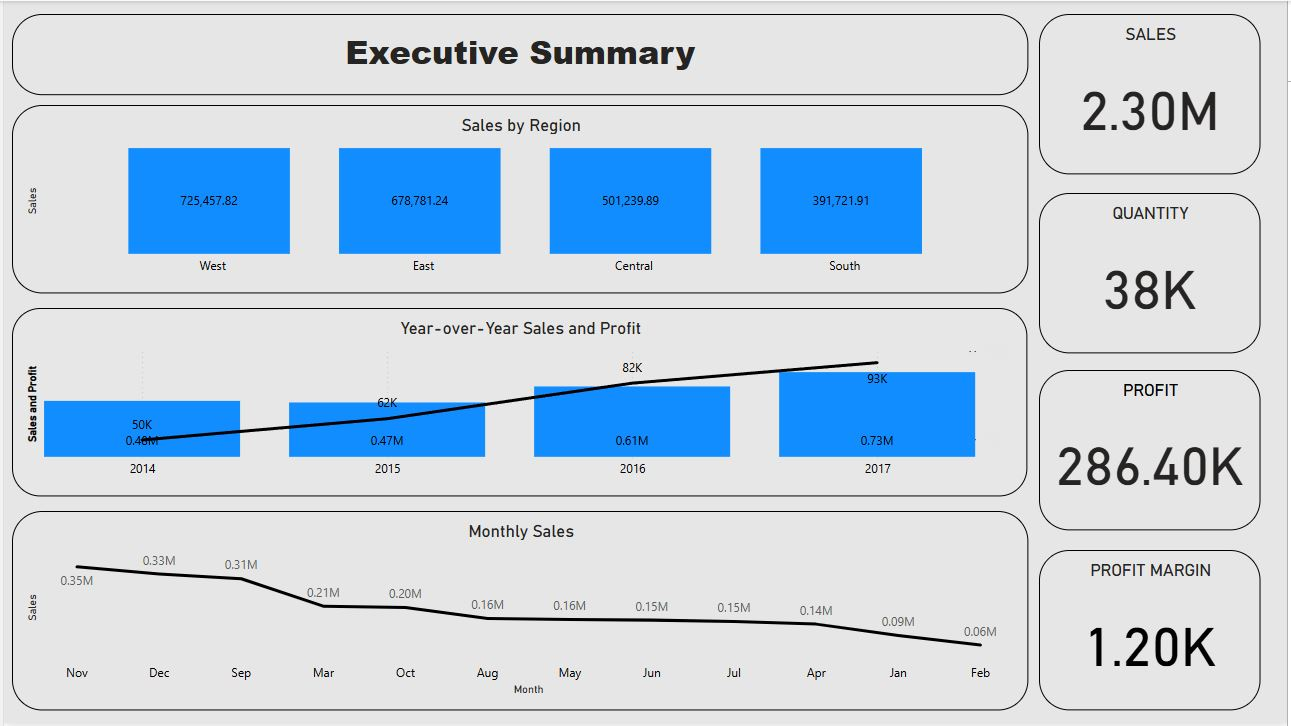

The dashboard page shown, as its layout file describes it:
{"tool":"powerbi","page":{"name":"Executive Summary","canvas":[1280,720],"ordinal":0},"visuals":[{"type":"card","title":"SALES","fields":{"Values":["Sum(Sample - Superstore.Sales)"]},"box":[1033.1,13.1,220.7,160.3],"z":0},{"type":"card","title":"PROFIT","fields":{"Values":["Sum(Sample - Superstore.Profit)"]},"box":[1033.1,367.9,220.7,160.3],"z":1000},{"type":"card","title":"QUANTITY","fields":{"Values":["Sum(Sample - Superstore.Quantity)"]},"box":[1033.1,191.5,220.7,160.3],"z":2000},{"type":"card","title":"PROFIT MARGIN","fields":{"Values":["Sum(Sample - Superstore.Profit Margin)"]},"box":[1033.1,547.3,220.7,160.3],"z":3000},{"type":"lineChart","title":"Monthly Sales","fields":{"Y":["Sum(Sample - Superstore.Sales)"],"Category":["Sample - Superstore.Month Names"]},"box":[8.1,509,1013.9,198.6],"z":4000},{"type":"hundredPercentStackedColumnChart","title":"Sales by Region","fields":{"Category":["Sample - Superstore.Region"],"Y":["Sum(Sample - Superstore.Sales)"]},"box":[8.1,103.8,1013.9,188.5],"z":5000},{"type":"lineClusteredColumnComboChart","title":"Year-over-Year Sales and Profit","fields":{"Category":["Sample - Superstore.OrderDate.Variation.Date Hierarchy.Year","Sample - Superstore.OrderDate.Variation.Date Hierarchy.Quarter","Sample - Superstore.OrderDate.Variation.Date Hierarchy.Month","Sample - Superstore.OrderDate.Variation.Date Hierarchy.Day"],"Y":["Sum(Sample - Superstore.Sales)"],"Y2":["Sum(Sample - Superstore.Profit)"]},"box":[8.1,306.4,1012.9,188.5],"z":6000},{"type":"textbox","box":[8.1,13.1,1013.9,80.6],"z":7000}]}

Visuals, with their boxes in screenshot pixels (x1, y1, x2, y2), scaled from the page's 1280x720 canvas onto the 1291x726 screenshot:
"SALES" card: rect(1042, 13, 1265, 175)
"PROFIT" card: rect(1042, 371, 1265, 533)
"QUANTITY" card: rect(1042, 193, 1265, 355)
"PROFIT MARGIN" card: rect(1042, 552, 1265, 713)
"Monthly Sales" lineChart: rect(8, 513, 1031, 713)
"Sales by Region" hundredPercentStackedColumnChart: rect(8, 105, 1031, 295)
"Year-over-Year Sales and Profit" lineClusteredColumnComboChart: rect(8, 309, 1030, 499)
textbox: rect(8, 13, 1031, 94)
